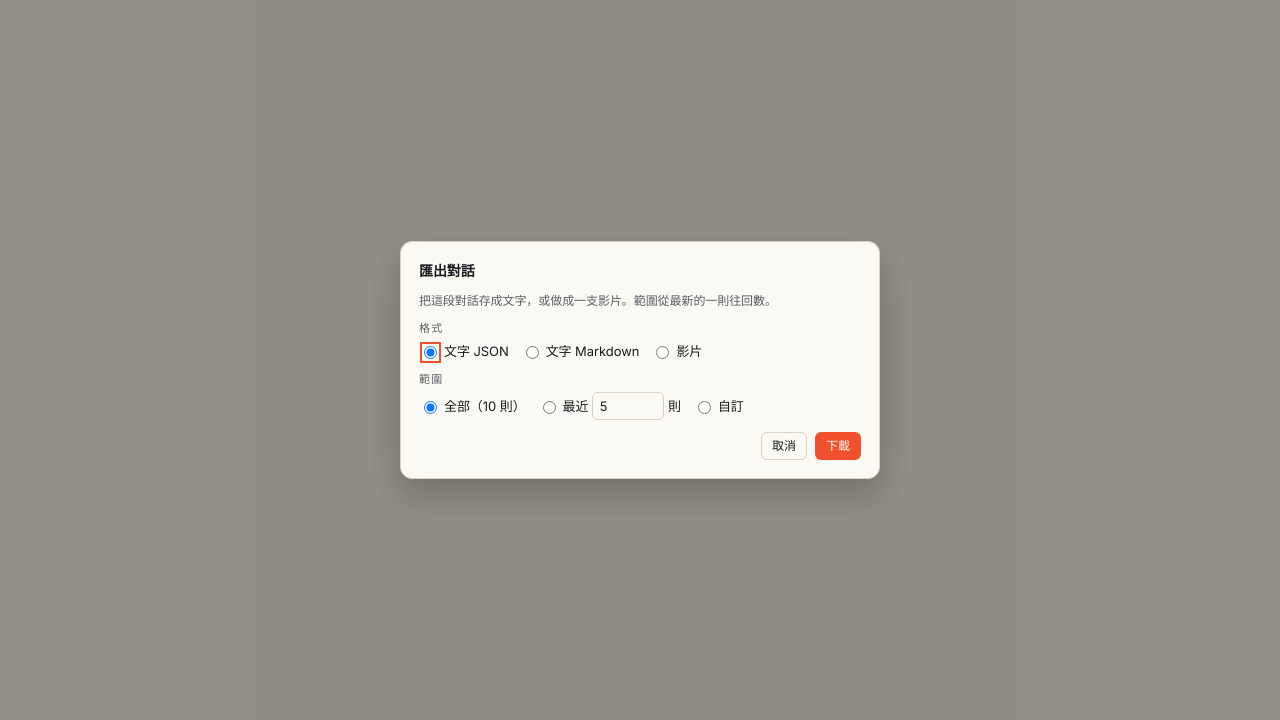
Test: ExportDialog — text › shows the server's sentence when the export fails, and stays open
Expected: the text "全部（10 則）" is shown, [419,396,526,416]
Click the button with test id "export-submit" at (838, 446), box [815,432,861,460]
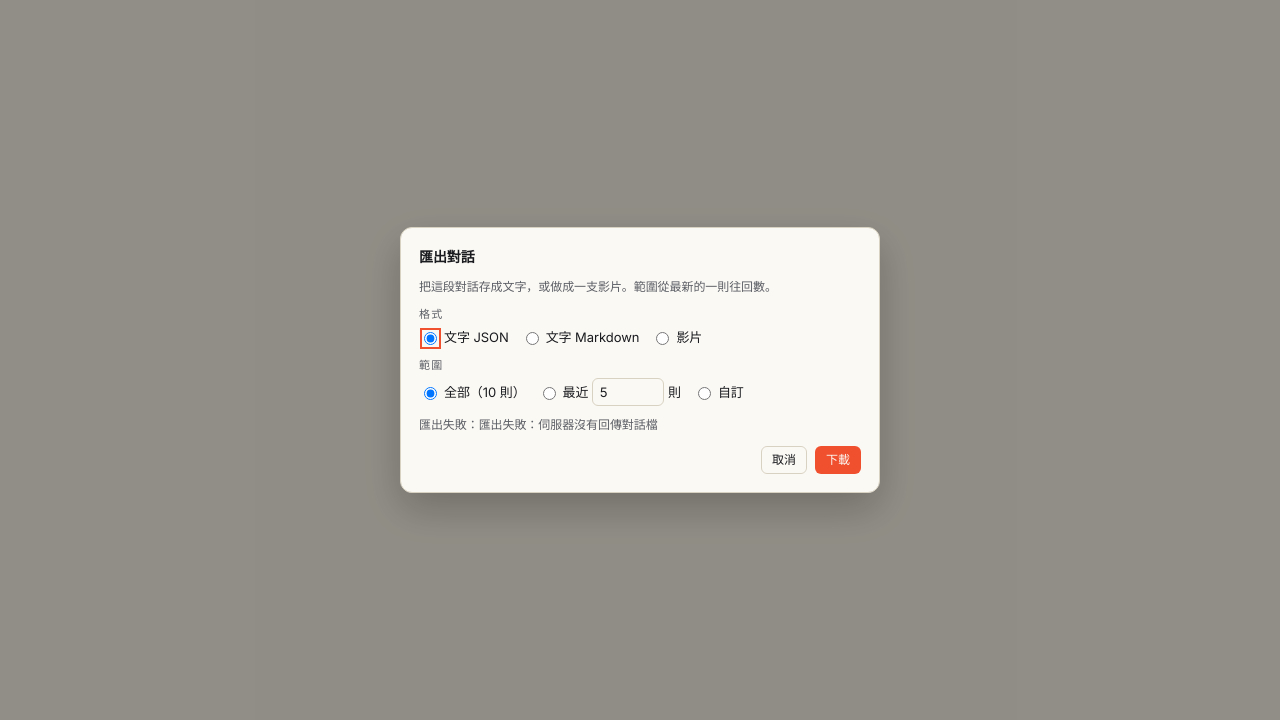
Expected: the text "匯出失敗：匯出失敗：伺服器沒有回傳對話檔" is shown, [419,417,658,432]
